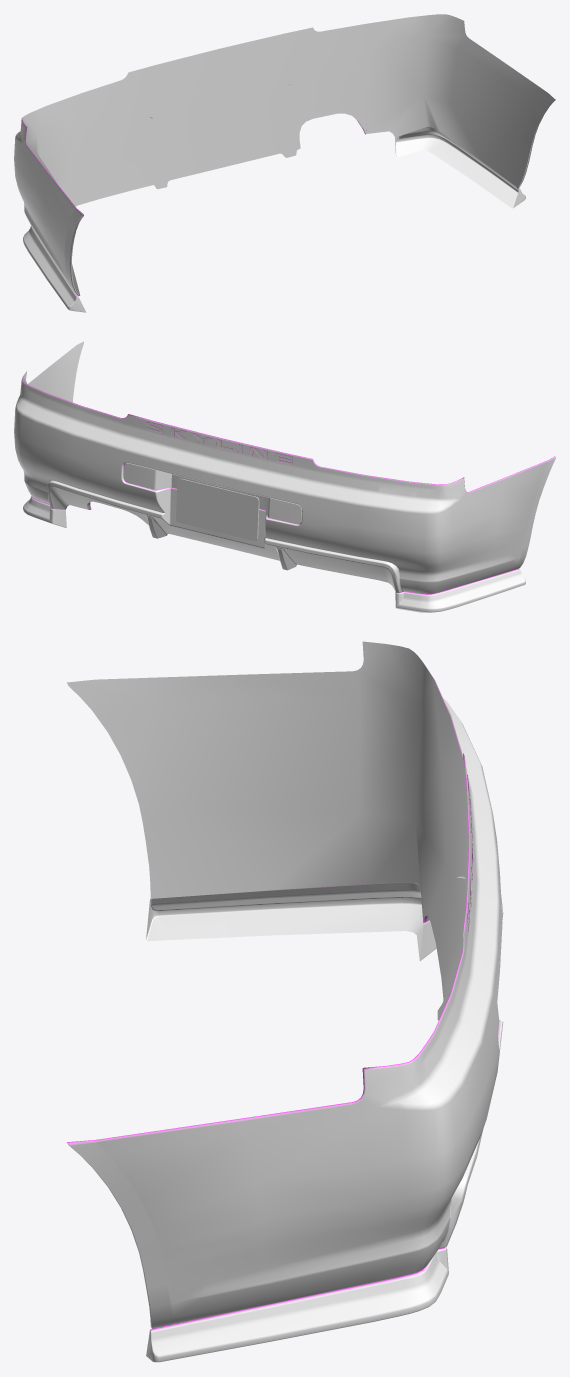
The model's file is Car_Nissan_SkylineGTRVspecR34_1999_BumperR_SetD.fbx.
3 renders of one model, top to bottom at view 1: azimuth 30°, elevation 25°; view 2: azimuth 150°, elevation 25°; view 3: azimuth 270°, elevation 25°, orthographic. The views are drawn at different scales.
Parts seen in each view (by area): view 1: BumperR 6; view 2: BumperR 6; view 3: BumperR 6.
Boxes of the visible parts, x1,y1,x2,y2 form: BumperR 6: [14, 14, 555, 312]; BumperR 6: [14, 341, 555, 612]; BumperR 6: [67, 641, 503, 1362].
Size of the model in its own units: 1.78 by 0.5484 by 0.7086.
